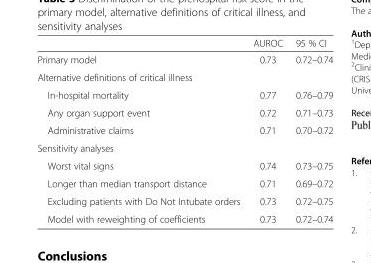table: (36, 36, 332, 224)
table column: (36, 36, 245, 224), (288, 36, 332, 224), (245, 36, 288, 224)
table column header: (36, 36, 332, 50)
table projected row header: (36, 138, 332, 156), (36, 68, 332, 85)
table row: (36, 50, 332, 68), (36, 85, 332, 103), (36, 103, 332, 121), (36, 138, 332, 156), (36, 156, 332, 174), (36, 191, 332, 209), (36, 68, 332, 85), (36, 121, 332, 138), (36, 174, 332, 191), (36, 209, 332, 224), (36, 36, 332, 50)
